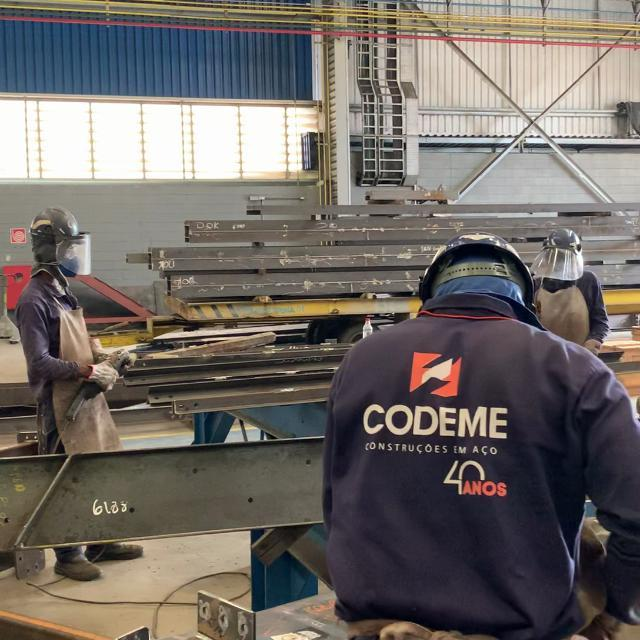eye-glass: (55, 232, 96, 279)
face-shield: (86, 359, 122, 394)
glove: (28, 206, 78, 235)
safety-shoe: (14, 206, 126, 444), (54, 546, 108, 581), (85, 544, 145, 564)
